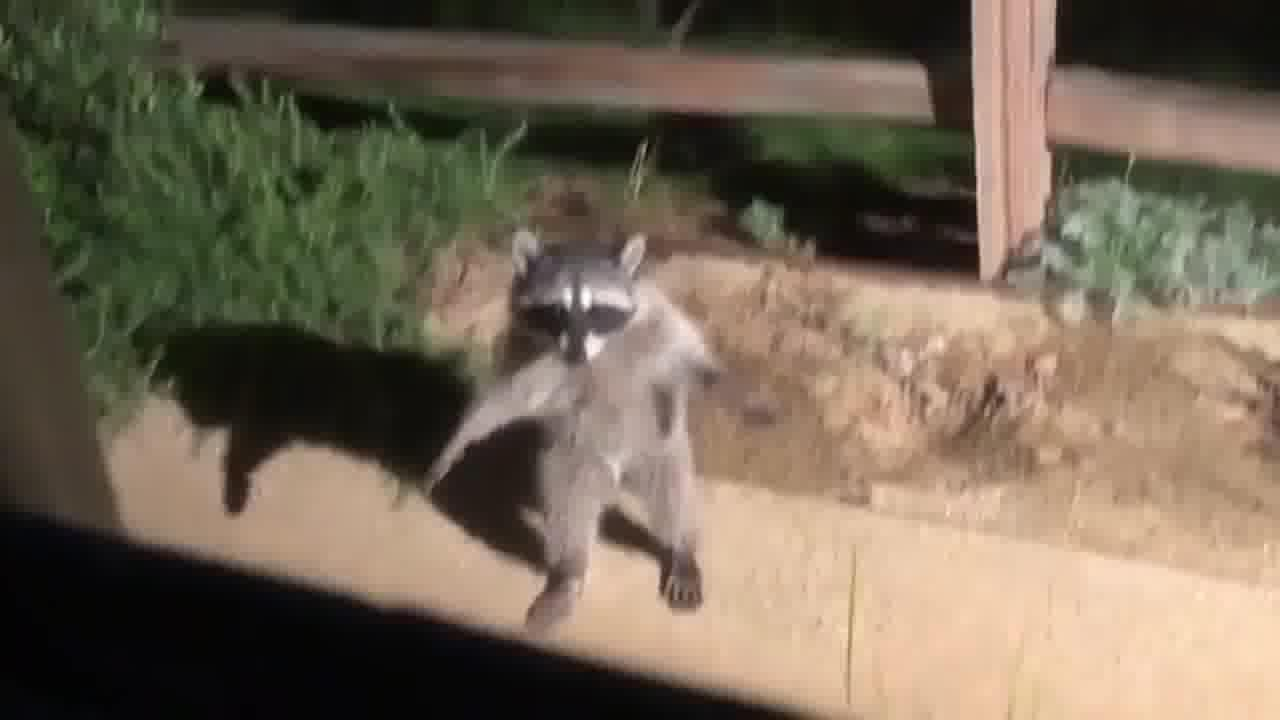raccoon: (407, 222, 783, 639)
